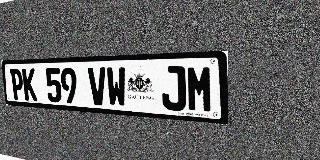5: (45, 68, 62, 103)
9: (60, 68, 78, 104)
J: (161, 66, 186, 111)
K: (22, 68, 37, 101)
M: (186, 65, 214, 113)
P: (10, 69, 24, 100)
V: (88, 67, 107, 106)
W: (106, 67, 127, 107)
